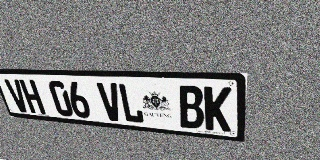0: (47, 81, 74, 117)
6: (65, 81, 92, 119)
B: (177, 85, 204, 129)
H: (19, 79, 46, 114)
K: (204, 86, 232, 132)
L: (117, 83, 145, 124)
V: (96, 82, 124, 122), (4, 79, 31, 113)
